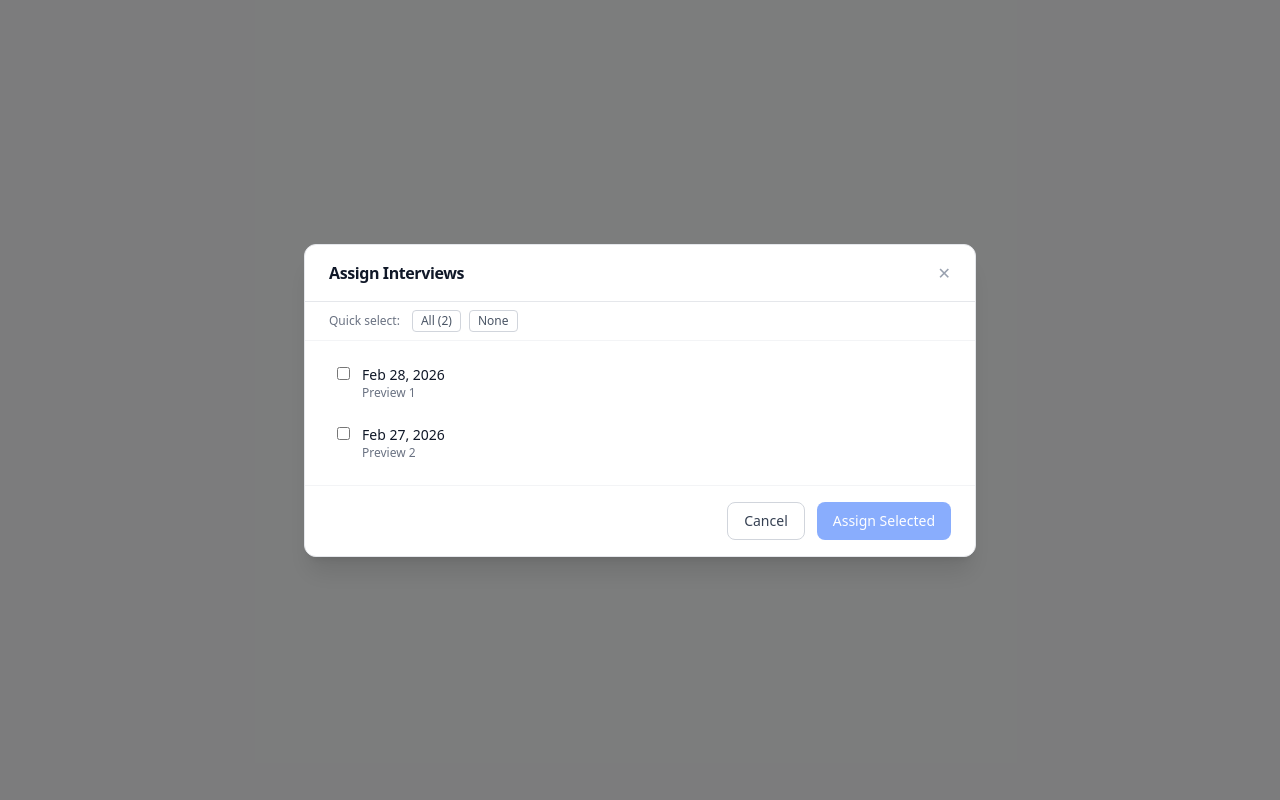
Test: AssignInterviewsModal (AC-14, AC-15) › AC-15: should keep assign button disabled until at least 1 is selected
The width and height of the screenshot is (1280, 800).
Expected: the button with test id "assign-modal-confirm" is disabled, [817, 502, 951, 540]
Click the label with test id "assign-checkbox-sess-1": x=391, y=382 [337, 364, 445, 400]
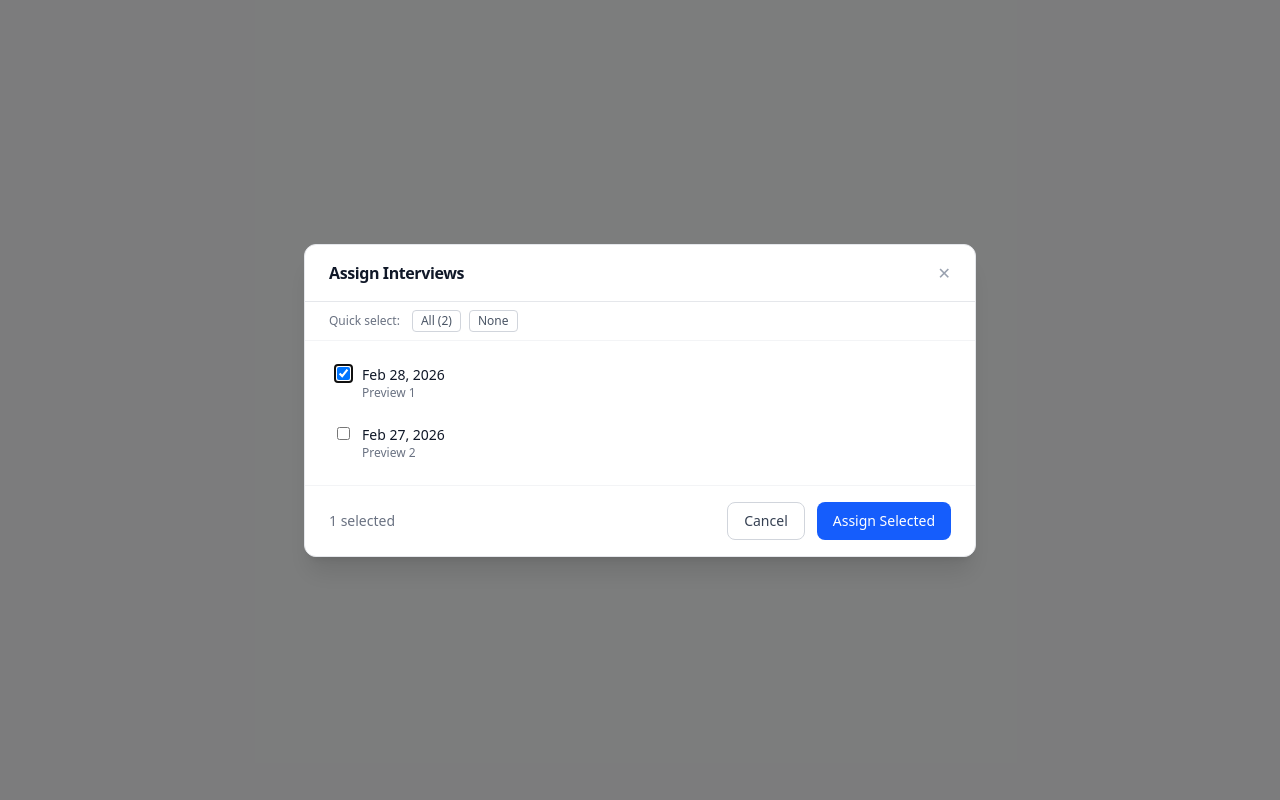
Expected: the button with test id "assign-modal-confirm" is enabled, [817, 502, 951, 540]
